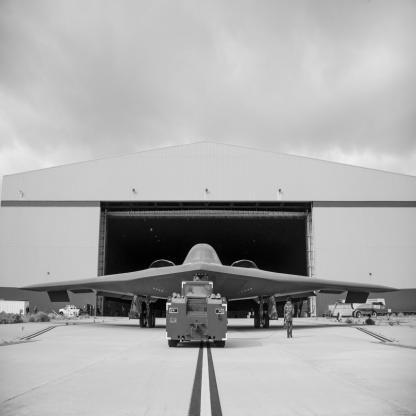B2: (17, 244, 403, 330)
